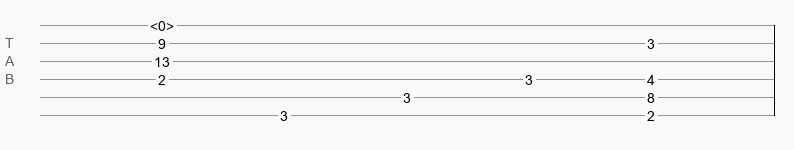13: (154, 54, 170, 64)
2: (158, 72, 166, 82), (647, 108, 655, 118)
3: (280, 108, 288, 118), (403, 90, 411, 100), (525, 72, 533, 82), (647, 36, 655, 46)
4: (647, 72, 655, 82)
8: (647, 90, 655, 100)
9: (158, 36, 166, 46)
harmonic: (150, 18, 174, 28)
